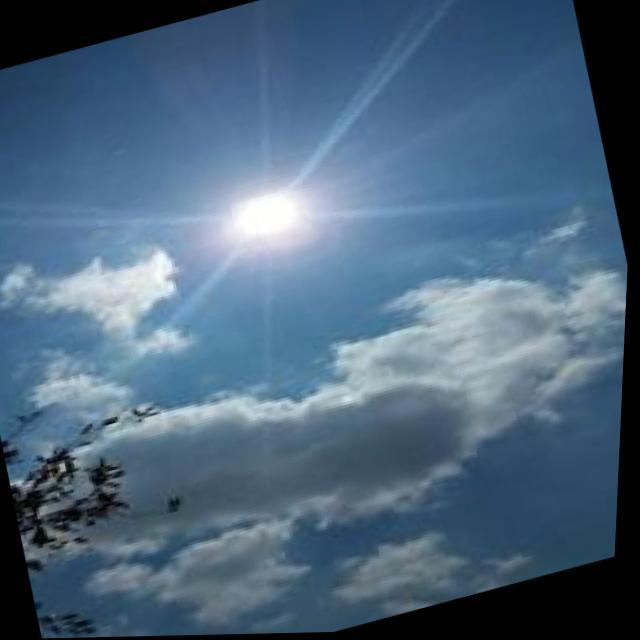sun: (234, 192, 307, 245)
